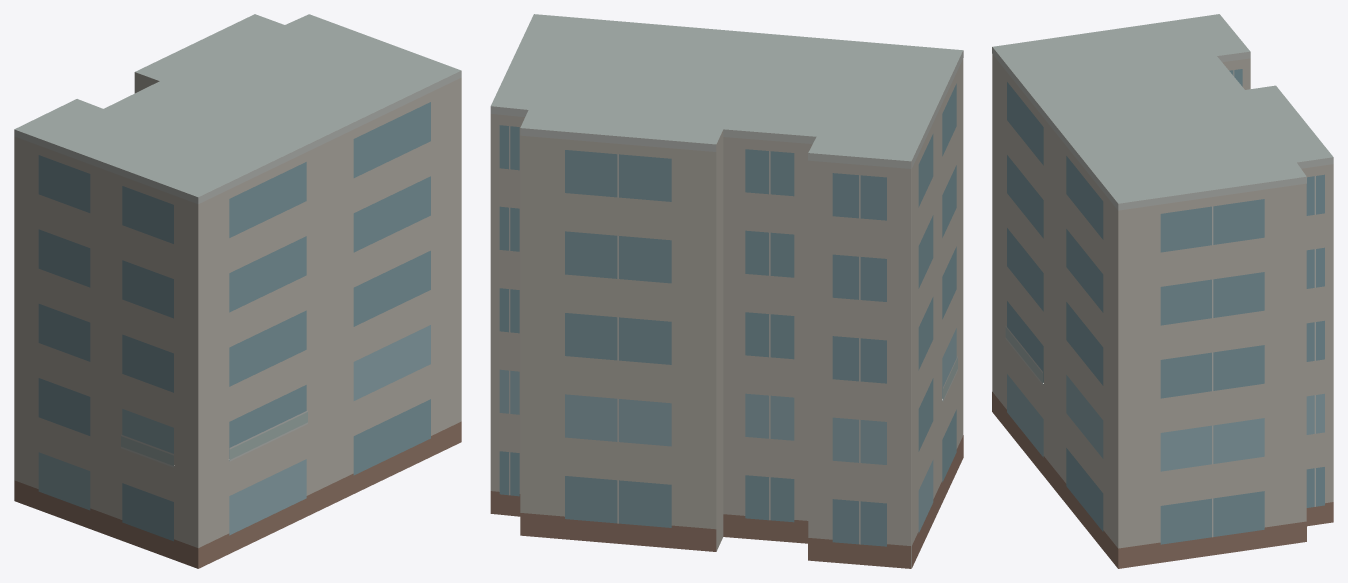
The model's file is survey-upis-32624753.glb.
The picture shows the model from 3 angles, left to right: view 1: azimuth 30°, elevation 25°; view 2: azimuth 150°, elevation 25°; view 3: azimuth 270°, elevation 25°; orthographic projection. The views are drawn at different scales.
Visible parts, largest first — view 1: survey-upis-32624753.tmp; view 2: survey-upis-32624753.tmp; view 3: survey-upis-32624753.tmp.
Boxes of the visible parts, <box> form: survey-upis-32624753.tmp: <box>14,14,461,568</box>; survey-upis-32624753.tmp: <box>490,14,963,568</box>; survey-upis-32624753.tmp: <box>992,14,1333,568</box>.
Bounding box in the file's own units: 14.5 × 13 × 11.03.
